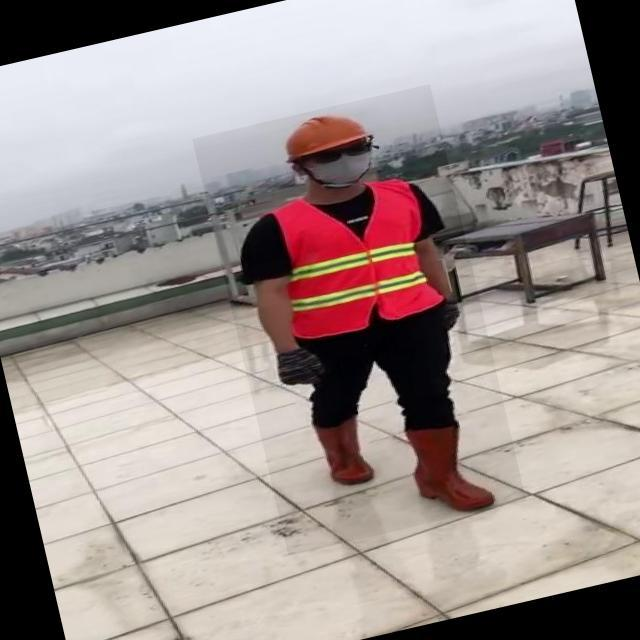Gloves: (270, 339, 332, 391), (437, 298, 465, 329)
Helmet: (274, 97, 380, 165)
Human: (192, 83, 526, 555)
Safety Boot: (399, 414, 498, 523), (310, 409, 379, 491)
Safety Vest: (259, 170, 455, 343)
